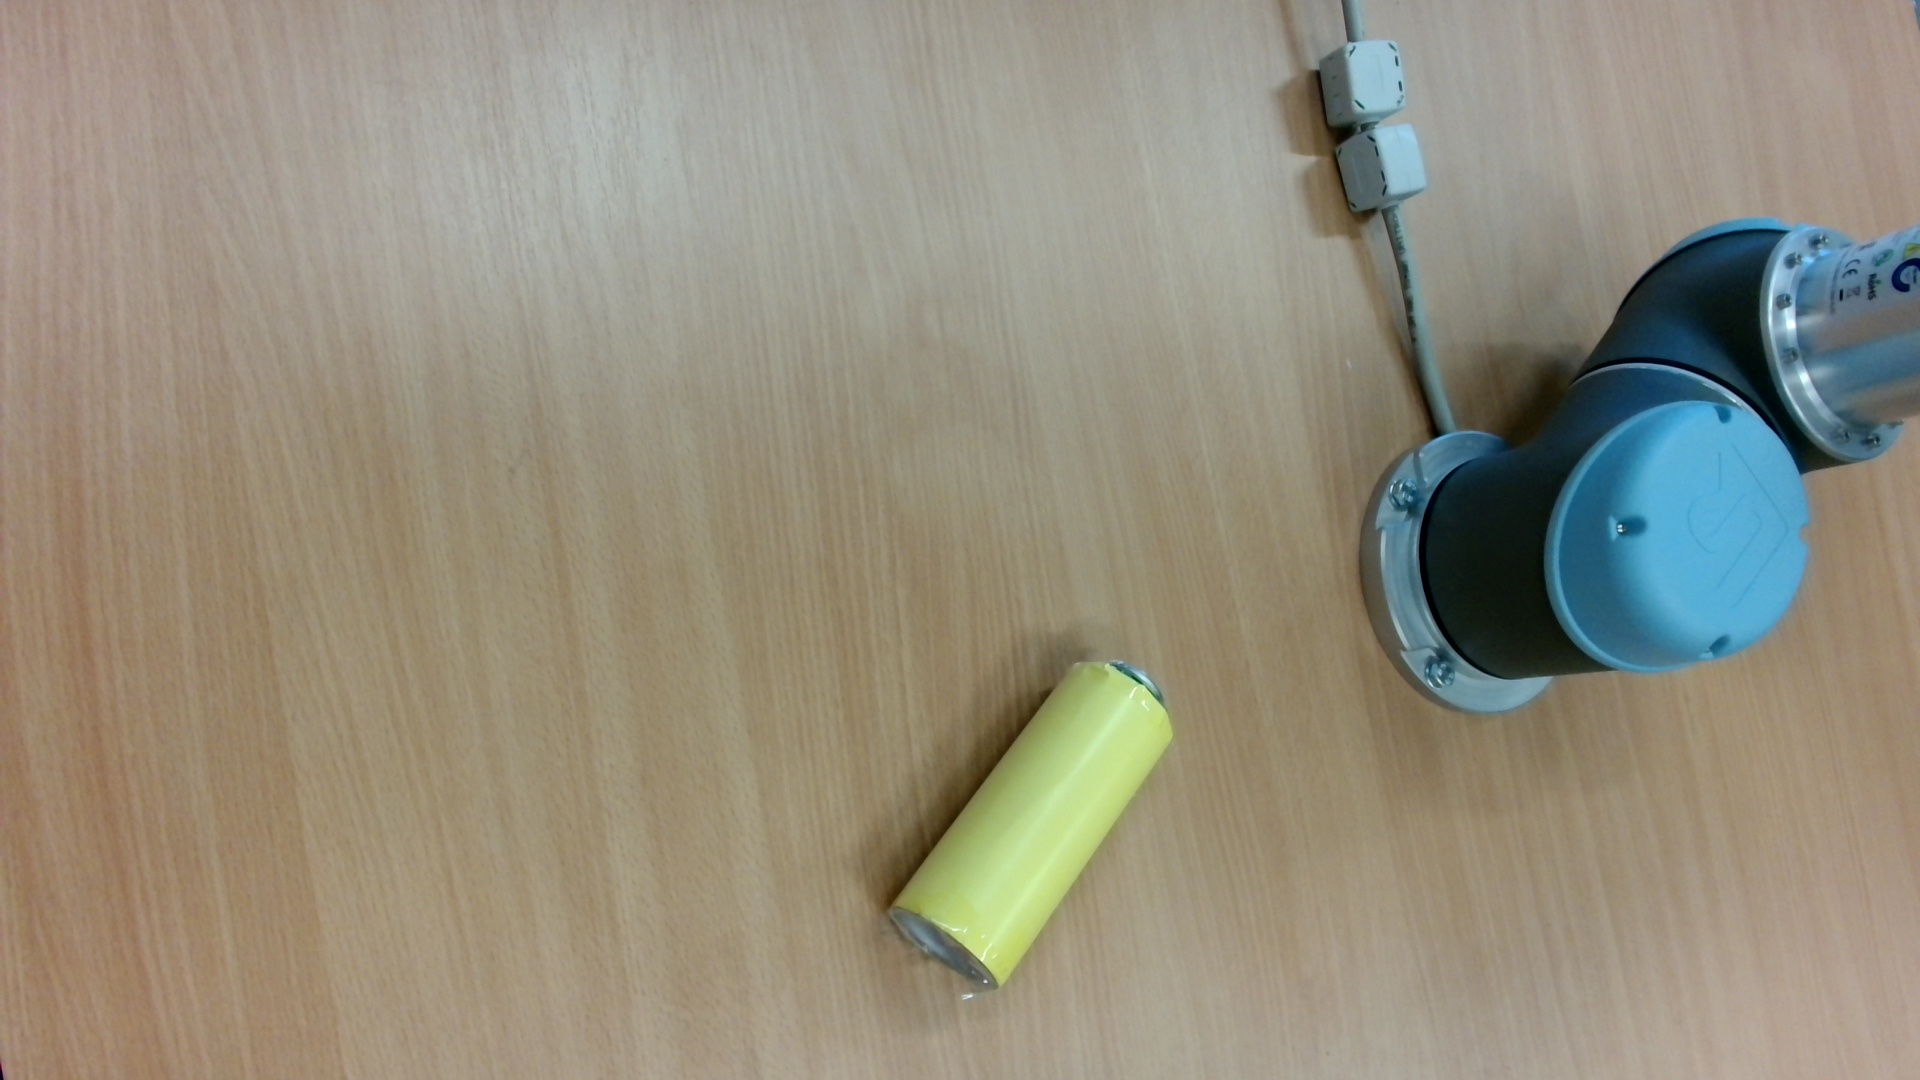Cylinder: (870, 646, 1188, 1004)
